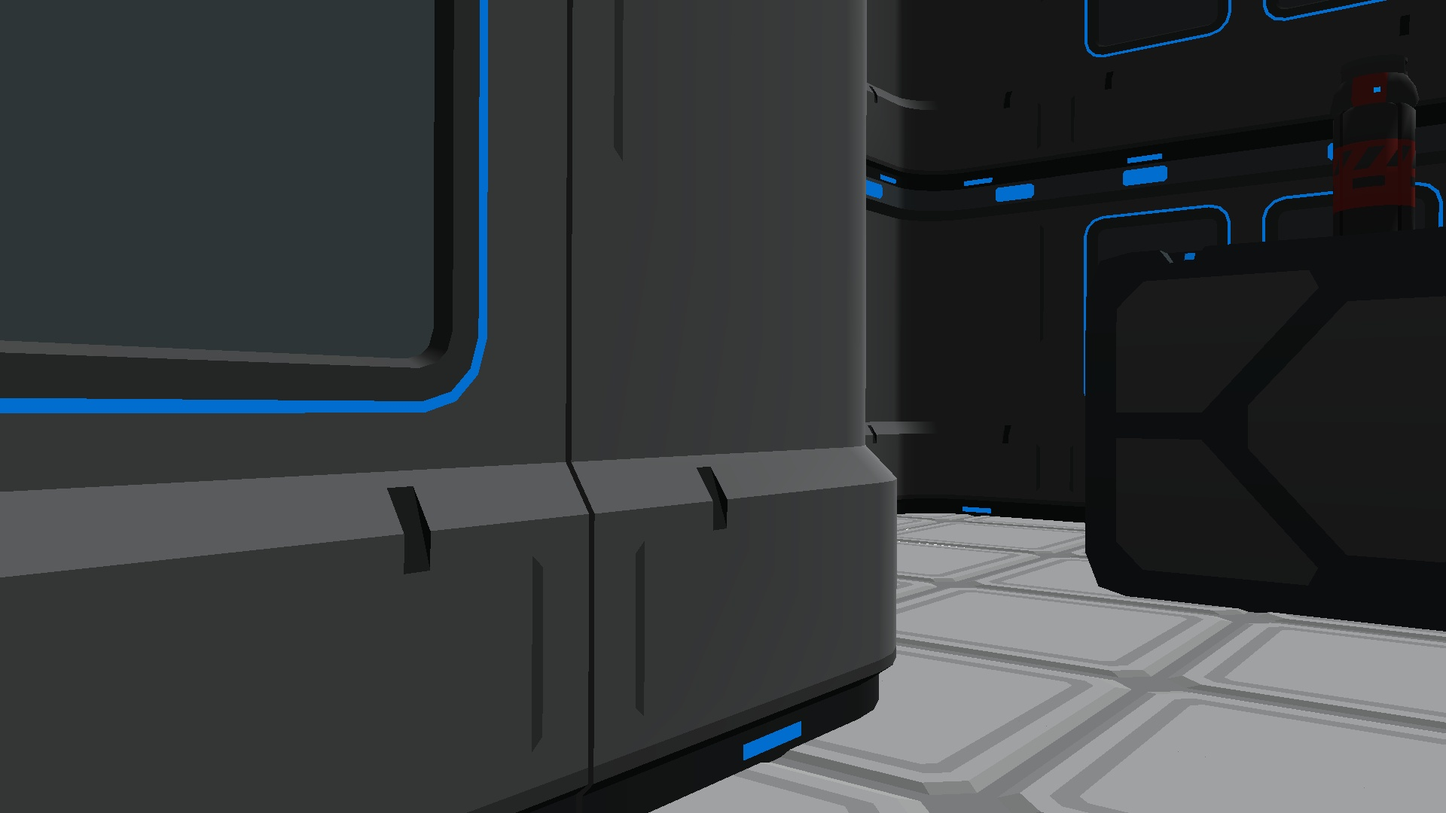red barrel: (1334, 72, 1417, 235)
